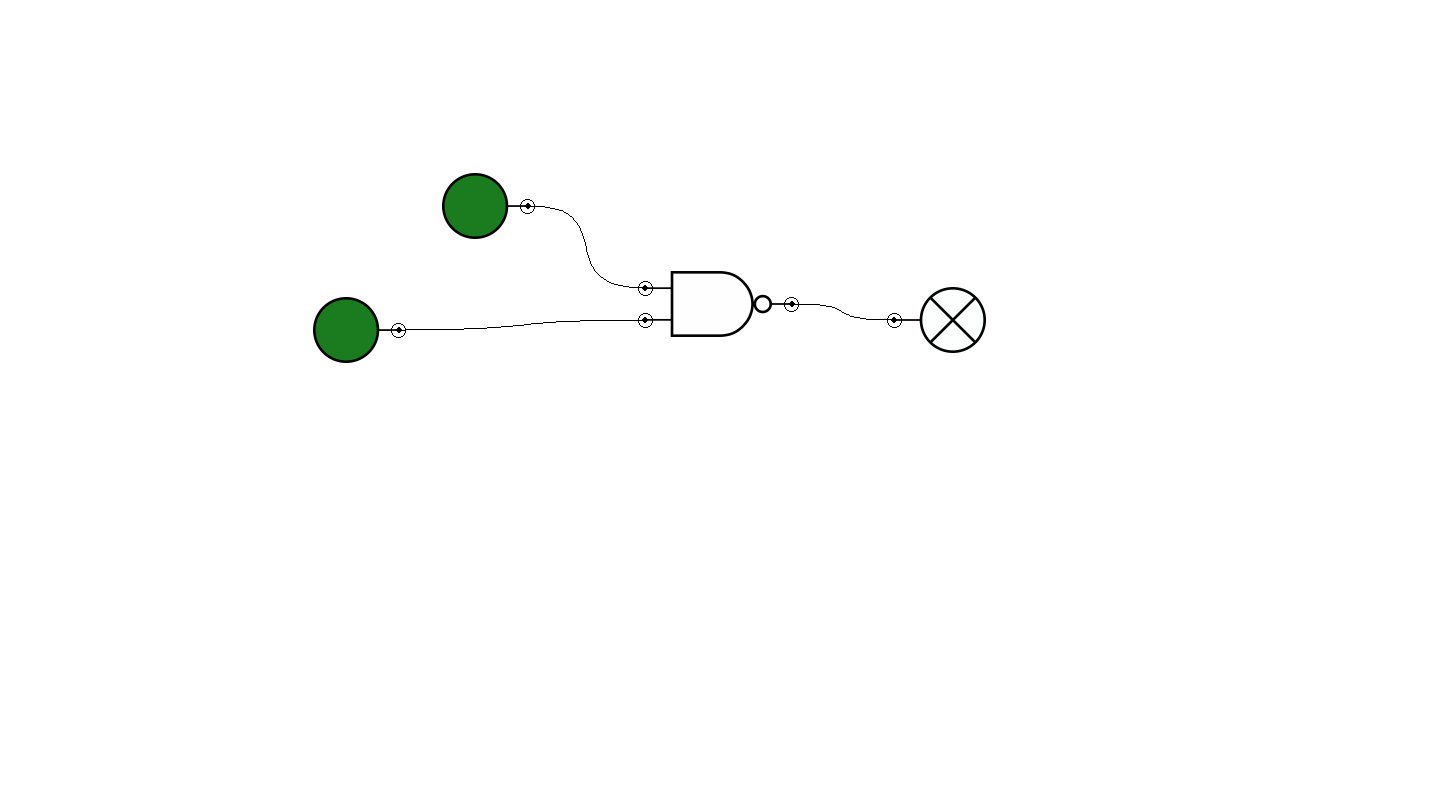bulb: (887, 287, 986, 353)
nand: (638, 271, 799, 337)
switch_True: (313, 297, 406, 363), (442, 173, 535, 239)
